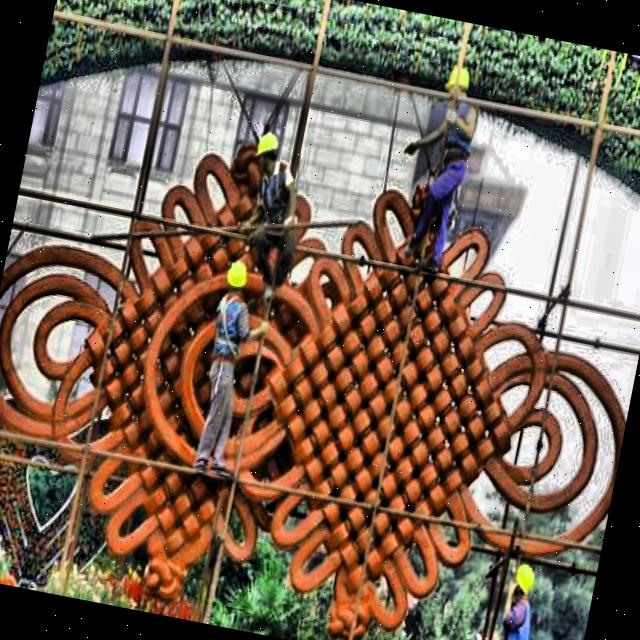helmet: (247, 130, 288, 183), (442, 57, 476, 112), (220, 251, 252, 299), (509, 560, 540, 608)
